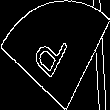P_SW: (34, 24, 76, 86)
